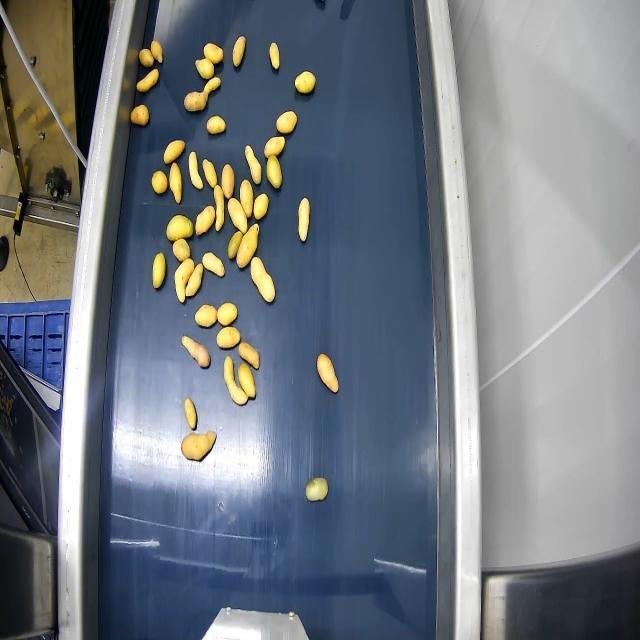Baby Potato: (223, 356, 247, 405), (251, 256, 274, 303), (181, 431, 215, 461), (236, 224, 258, 268), (174, 258, 194, 303), (316, 354, 338, 393), (182, 336, 209, 367), (227, 198, 247, 234), (167, 215, 193, 241), (245, 145, 261, 184), (238, 362, 255, 398), (195, 206, 215, 236), (202, 252, 224, 277), (238, 343, 259, 369), (186, 264, 203, 296), (152, 252, 166, 290), (189, 152, 203, 189), (305, 478, 327, 501), (294, 71, 316, 94), (217, 327, 240, 349), (164, 140, 185, 164), (240, 180, 253, 218), (169, 163, 181, 204), (298, 198, 309, 242), (264, 136, 286, 158), (276, 111, 297, 134), (137, 69, 158, 92), (195, 304, 216, 327), (266, 156, 281, 188), (214, 185, 224, 231), (221, 164, 234, 199), (218, 303, 237, 326), (184, 92, 207, 111), (203, 159, 217, 189), (253, 193, 268, 220), (232, 36, 245, 67), (204, 43, 223, 64), (195, 58, 214, 79), (130, 104, 148, 126), (228, 231, 242, 259), (173, 239, 190, 262), (184, 398, 196, 430), (151, 170, 167, 194), (206, 116, 225, 135), (203, 77, 220, 96), (269, 42, 279, 70), (139, 48, 153, 67), (151, 40, 162, 63)
